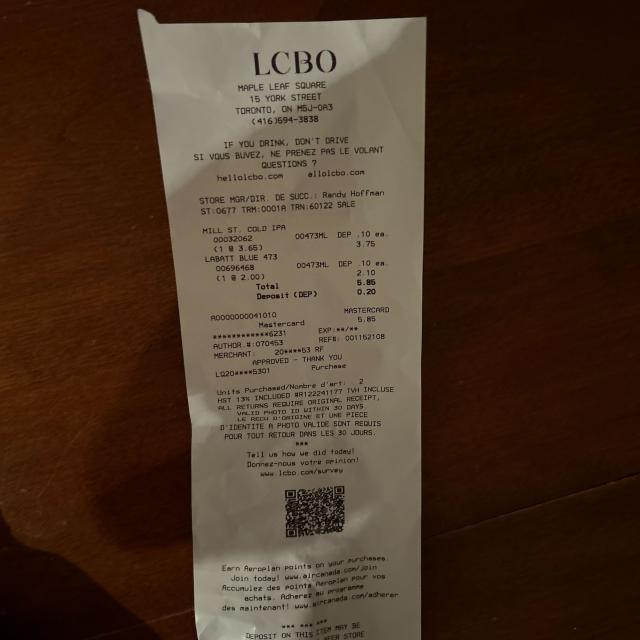item: (197, 251, 400, 283), (198, 224, 399, 255)
store_name: (245, 43, 347, 81)
total_amount: (252, 278, 382, 292)
